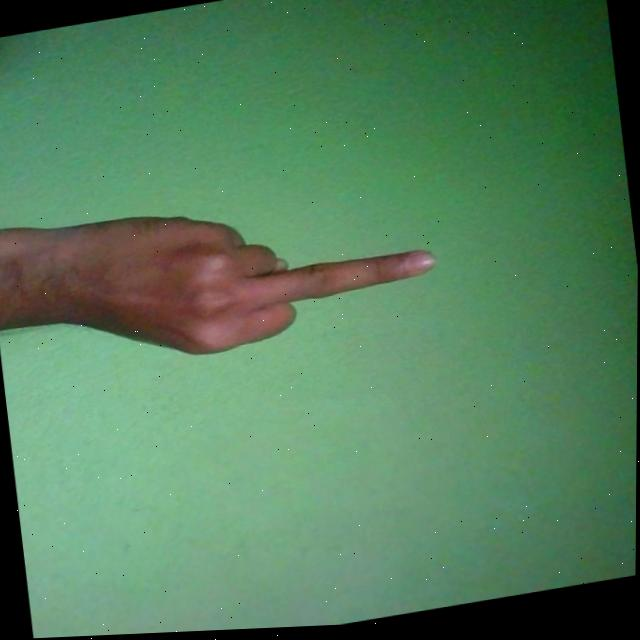Middle Finger: (0, 167, 444, 388)
